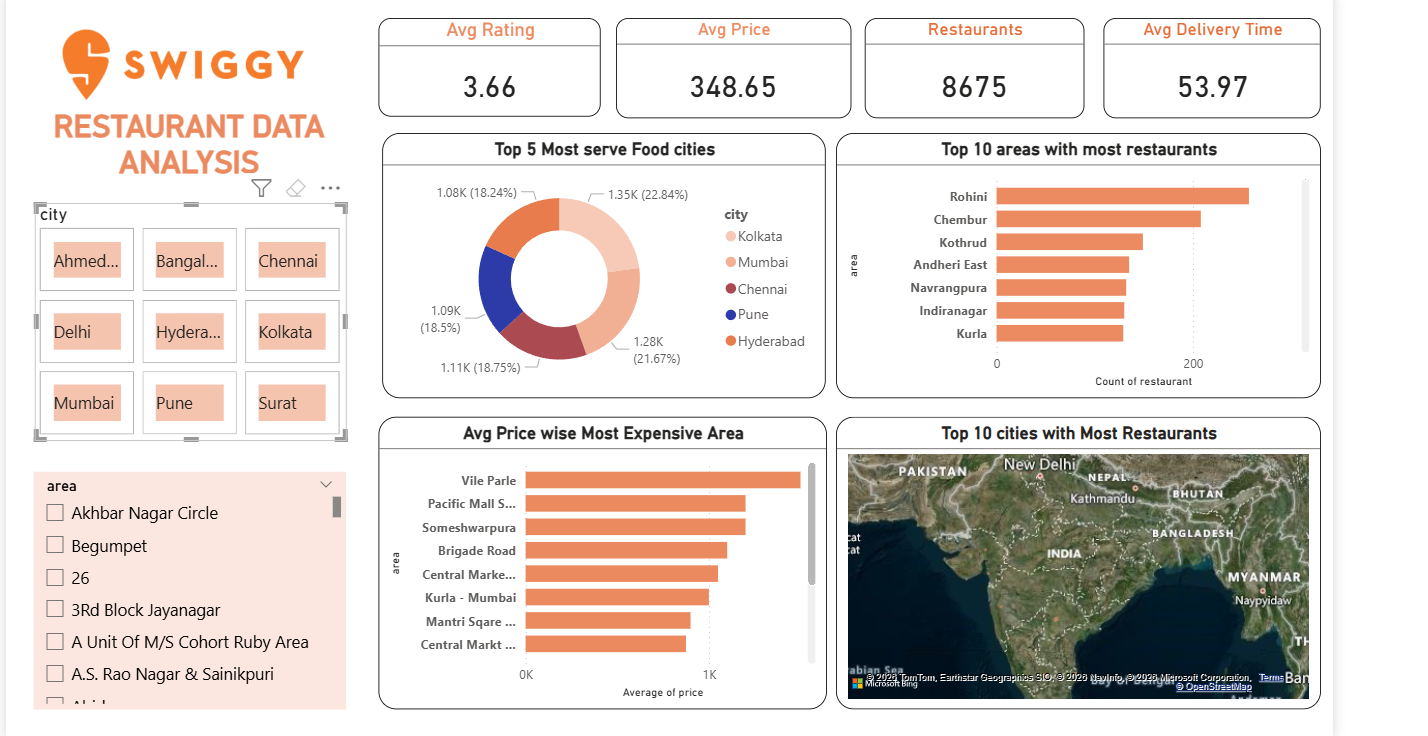

The page's visual inventory and layout, read from the dashboard file:
{"tool":"powerbi","page":{"name":"Page 1","canvas":[1280,720],"ordinal":0},"visuals":[{"type":"card","title":"Avg Rating","fields":{"Values":["Avg(swiggy_cleaned.avg_ratings)"]},"box":[359.5,24.1,214.7,95.3],"z":0},{"type":"card","title":"Avg Price ","fields":{"Values":["Avg(swiggy_cleaned.price)"]},"box":[588.7,24.1,226.8,96.5],"z":1000},{"type":"shape","title":"RESTAURANT DATA ANALYSIS","box":[26.5,111,300.4,74.8],"z":2000},{"type":"card","title":"Restaurants","fields":{"Values":["CountNonNull(swiggy_cleaned.restaurant)"]},"box":[828.8,24.1,212.3,96.5],"z":3000},{"type":"card","title":"Avg Delivery Time","fields":{"Values":["Avg(swiggy_cleaned.delivery_time)"]},"box":[1059.3,24.1,209.9,96.5],"z":4000},{"type":"advancedSlicerVisual","fields":{"Values":["swiggy_cleaned.city"]},"box":[27.7,202.7,300.4,229.2],"z":5000},{"type":"slicer","fields":{"Values":["swiggy_cleaned.area"]},"box":[26.5,462.1,301.6,229.2],"z":6000},{"type":"donutChart","title":"Top 5 Most serve Food cities","fields":{"Category":["swiggy_cleaned.city"],"Y":["CountNonNull(swiggy_cleaned.restaurant)"]},"box":[363.1,135.1,428.3,255.8],"z":7000},{"type":"clusteredBarChart","title":"Top 10 areas with most restaurants","fields":{"Category":["swiggy_cleaned.area"],"Y":["CountNonNull(swiggy_cleaned.restaurant)"]},"box":[801.1,135.1,468.1,255.8],"z":8000},{"type":"clusteredBarChart","title":"Avg Price wise Most Expensive Area ","fields":{"Category":["swiggy_cleaned.area"],"Y":["Avg(swiggy_cleaned.price)"]},"box":[359.5,409,433.1,282.3],"z":9000},{"type":"filledMap","title":"Top 10 cities with Most Restaurants ","fields":{"Category":["swiggy_cleaned.city"]},"box":[801.1,409,468.1,282.3],"z":10000},{"type":"image","box":[0,24.1,346.2,86.9],"z":11000}]}

Visuals, with their boxes in screenshot pixels (x1, y1, x2, y2):
"Avg Rating" card: (left=403, top=28, right=620, bottom=124)
"Avg Price " card: (left=635, top=28, right=863, bottom=125)
"RESTAURANT DATA ANALYSIS" shape: (left=68, top=116, right=371, bottom=191)
"Restaurants" card: (left=877, top=28, right=1091, bottom=125)
"Avg Delivery Time" card: (left=1109, top=28, right=1321, bottom=125)
advancedSlicerVisual - swiggy_cleaned.city: (left=69, top=208, right=372, bottom=439)
slicer - swiggy_cleaned.area: (left=68, top=470, right=372, bottom=701)
"Top 5 Most serve Food cities" donutChart: (left=407, top=140, right=839, bottom=398)
"Top 10 areas with most restaurants" clusteredBarChart: (left=849, top=140, right=1321, bottom=398)
"Avg Price wise Most Expensive Area " clusteredBarChart: (left=403, top=416, right=840, bottom=701)
"Top 10 cities with Most Restaurants " filledMap: (left=849, top=416, right=1321, bottom=701)
image: (left=41, top=28, right=390, bottom=116)
